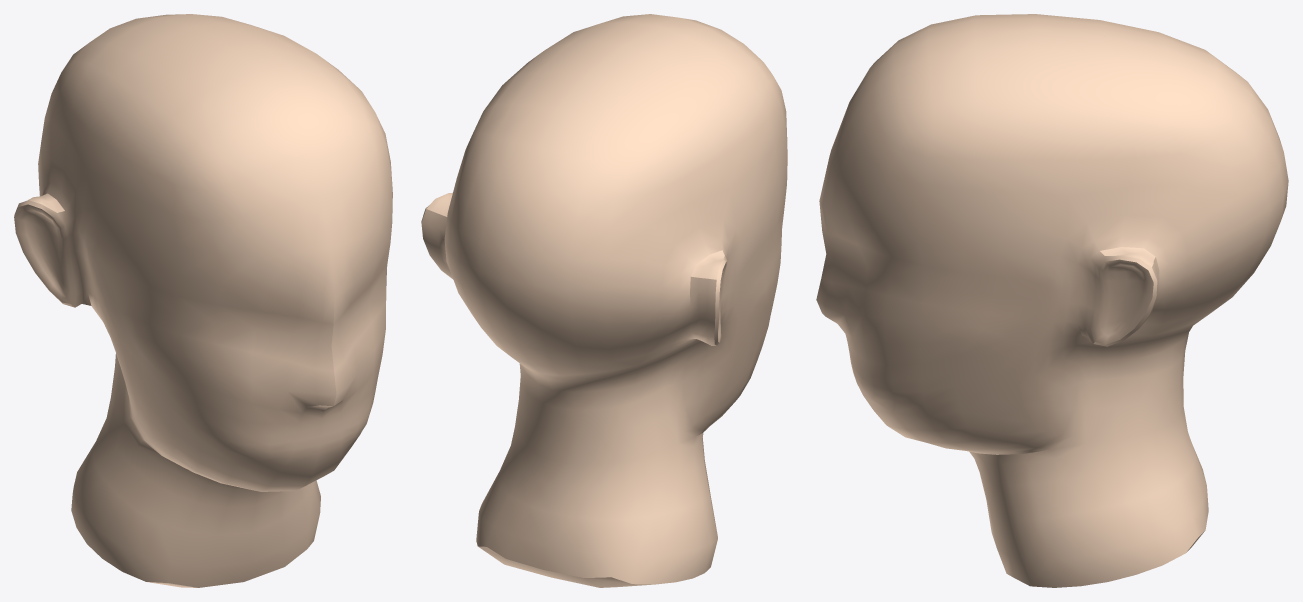
File: head2.obj
3 views of the same model, side by side, from view 1: azimuth 30°, elevation 25°; view 2: azimuth 150°, elevation 25°; view 3: azimuth 270°, elevation 25° (orthographic). The views are drawn at different scales.
Visible parts, largest first — view 1: Head; view 2: Head; view 3: Head.
Boxes of the visible parts, box(x1,y1,x2,y2) form: Head: box(14, 14, 392, 587); Head: box(421, 14, 787, 587); Head: box(816, 14, 1288, 587).
Bounding box in the file's own units: 0.5716 × 0.9349 × 0.7558.
